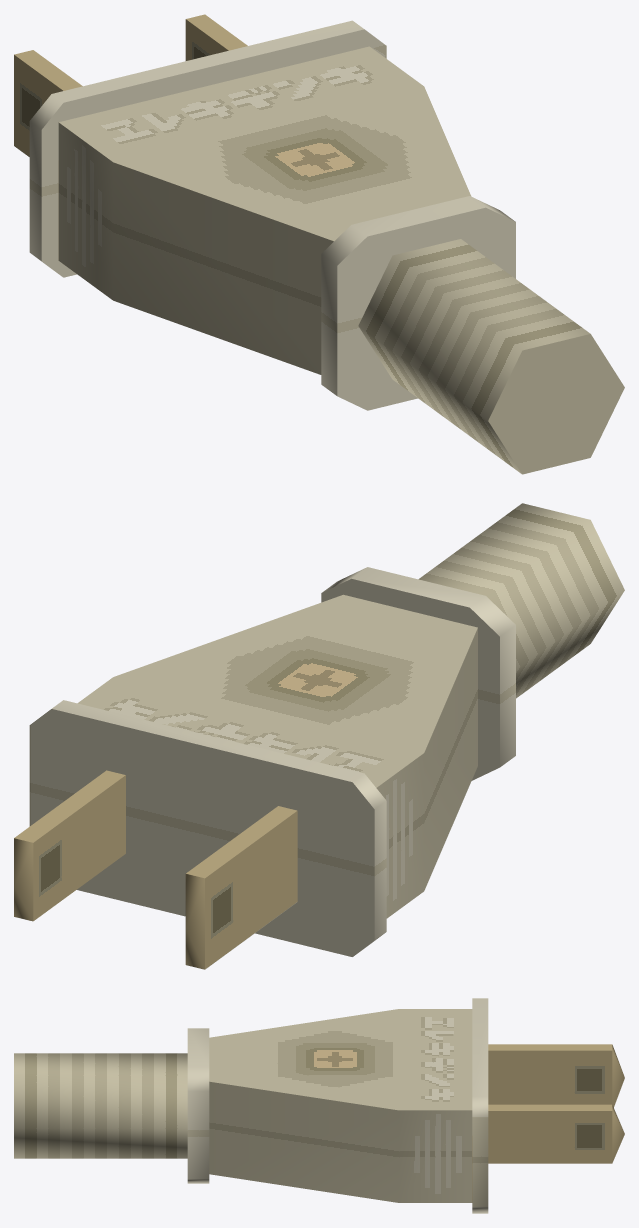
File: 04b7_Power_Plug.glb
3 views of the same model, one above another, from view 1: azimuth 30°, elevation 25°; view 2: azimuth 150°, elevation 25°; view 3: azimuth 270°, elevation 25° (orthographic). The views are drawn at different scales.
Visible parts, largest first — view 1: part_0; view 2: part_0; view 3: part_0.
Boxes of the visible parts, <box> form: part_0: <box>14,14,624,474</box>; part_0: <box>14,503,624,969</box>; part_0: <box>14,998,624,1213</box>.
Size of the model in its own units: 0.0294 by 0.0143 by 0.0674.
Materials: 1 (1 with a texture image).
